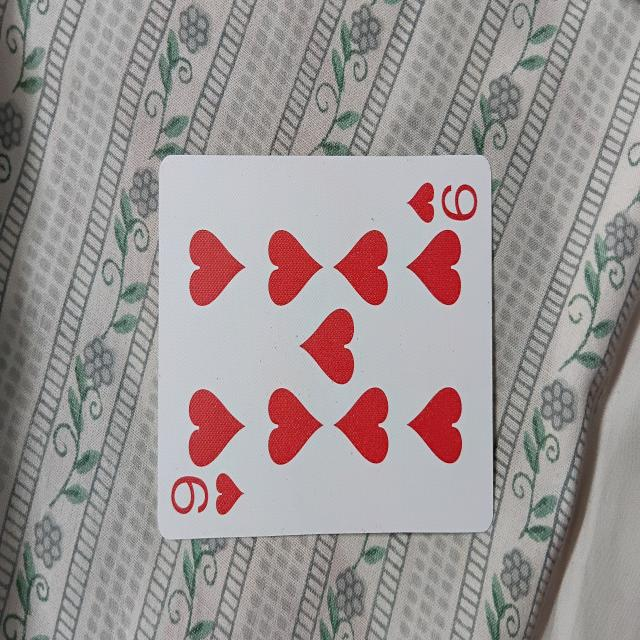9H: (157, 154, 496, 539)
